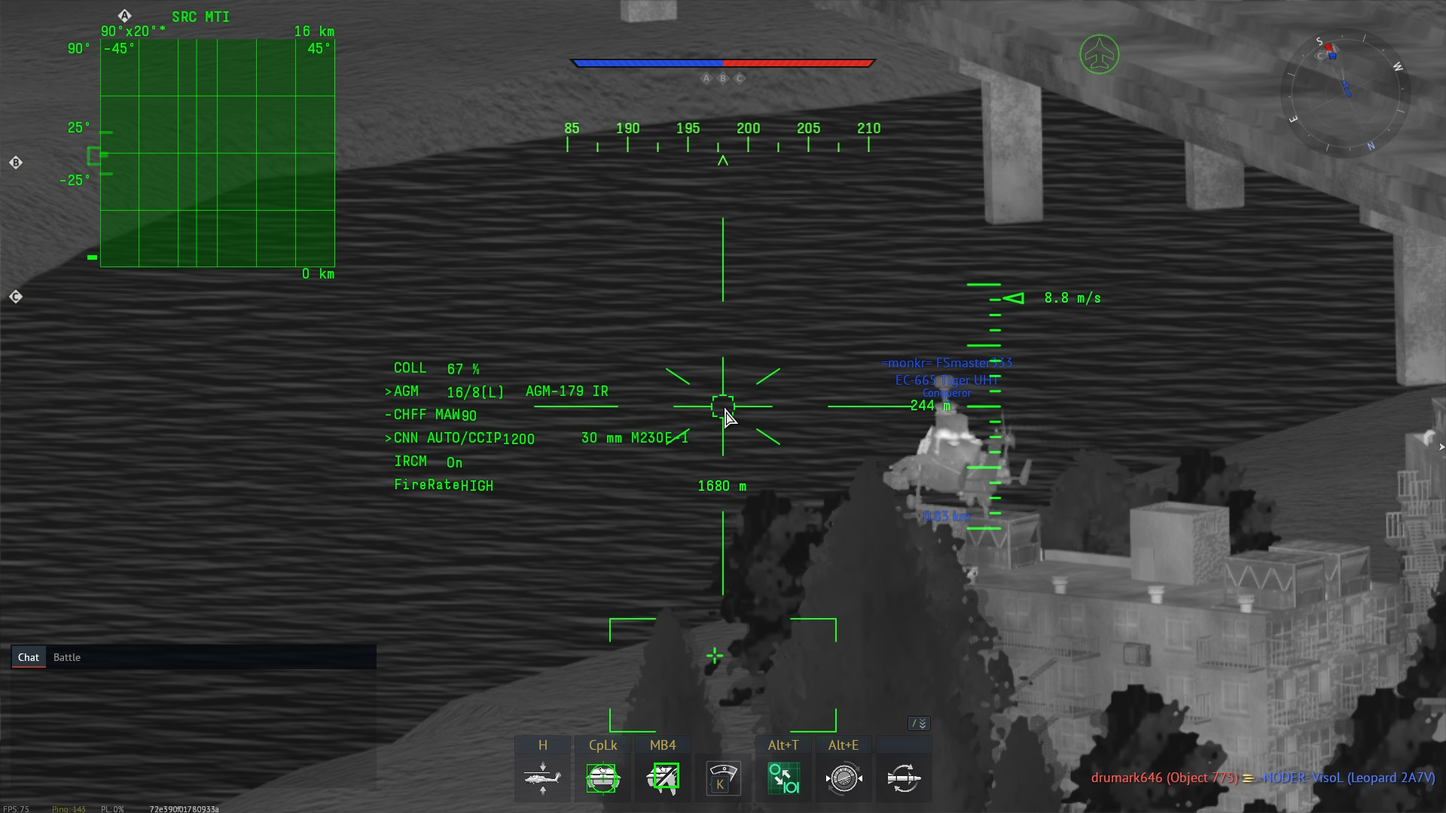ec665: (884, 374, 1034, 515)
